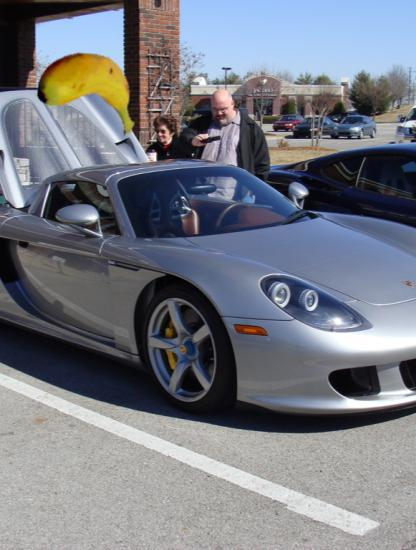Banana: (36, 42, 139, 145)
